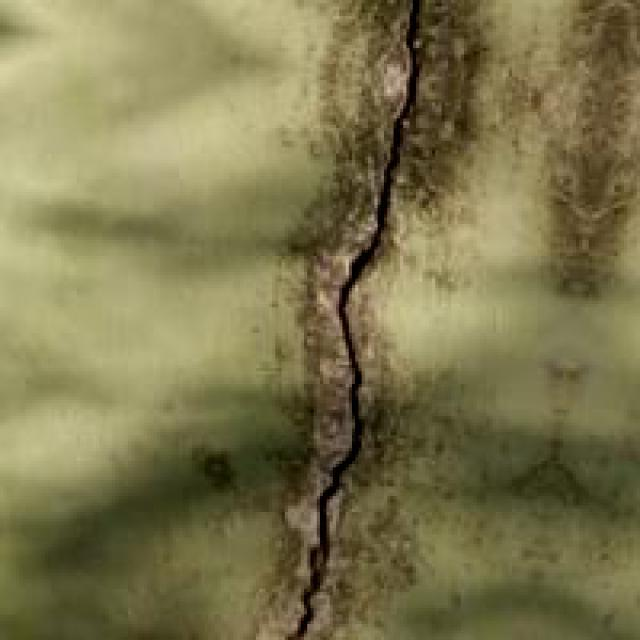crack: (262, 0, 484, 640)
